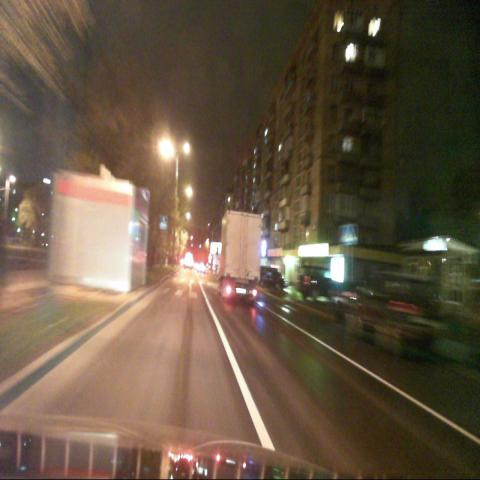5_19_1: (347, 224, 358, 244), (159, 215, 168, 231)
